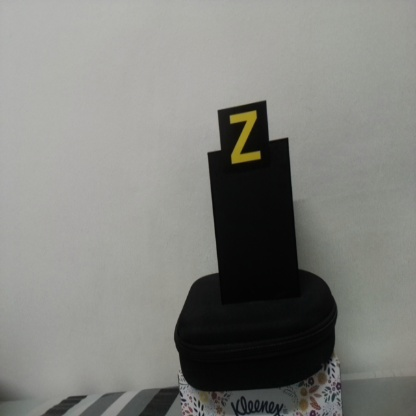id_15: (219, 109, 270, 172)
